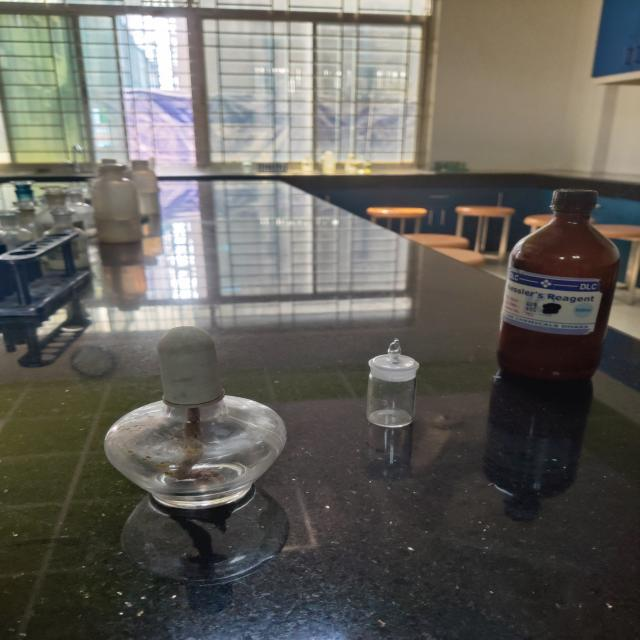Nessler_Reagent_Bottle: (452, 160, 640, 401)
Spirit_Lamp: (88, 313, 309, 556)
Weighing_Bottle: (348, 319, 437, 450)
